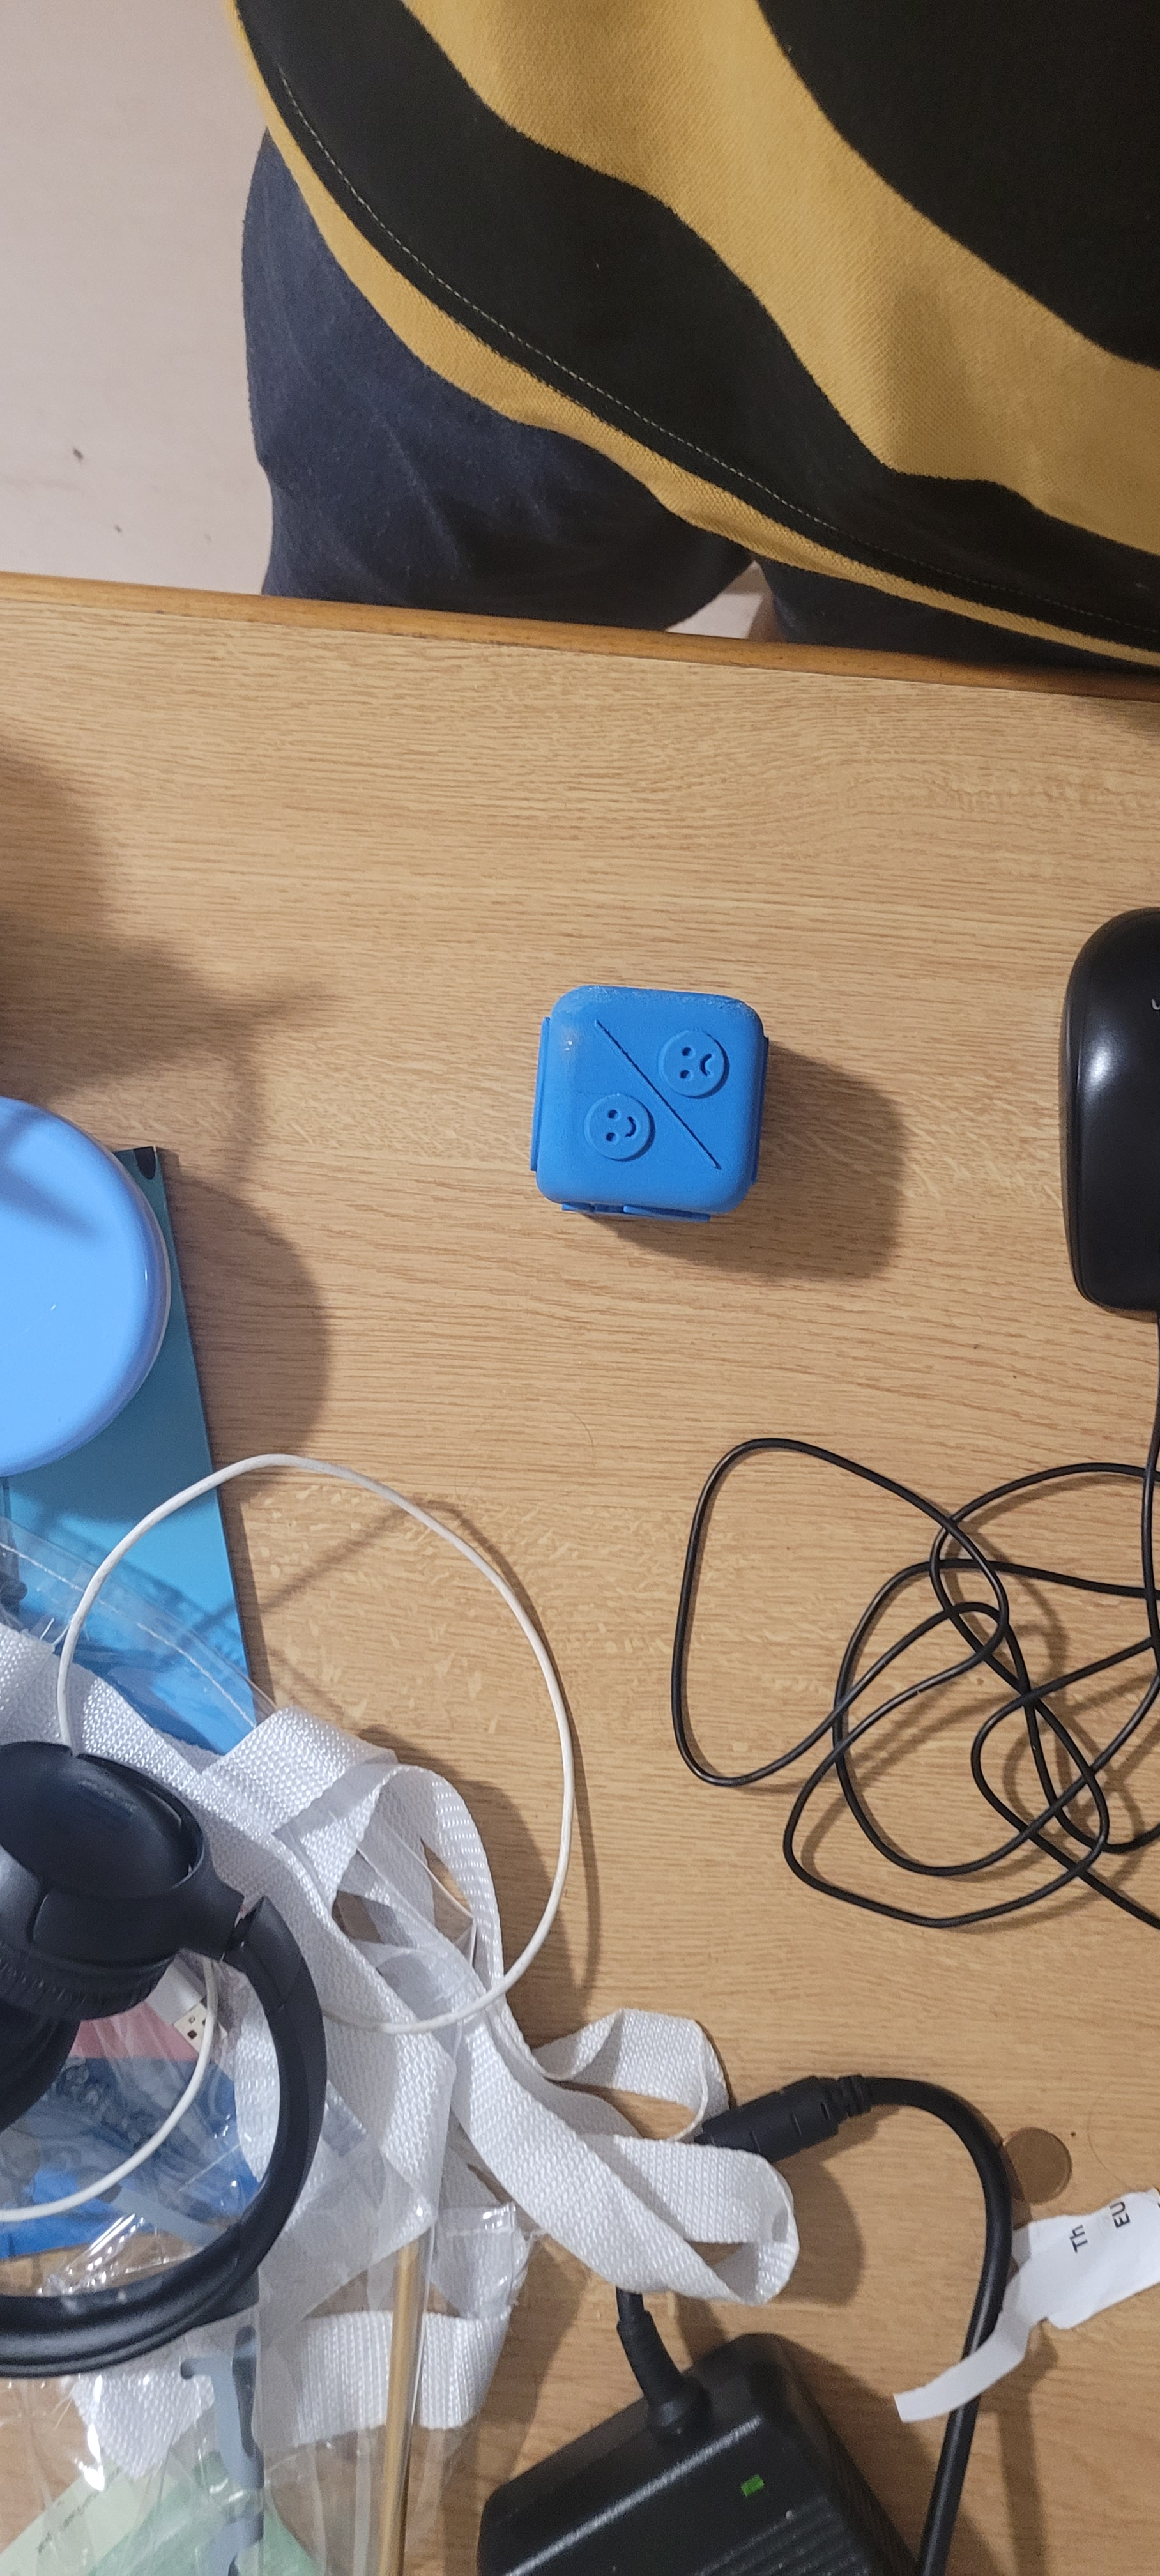Like/Dislike: (509, 963, 797, 1219)
